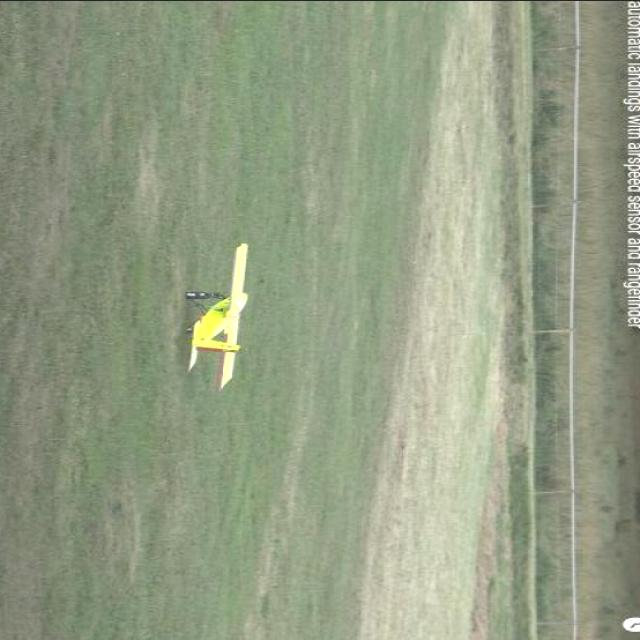plane: (185, 242, 252, 392)
